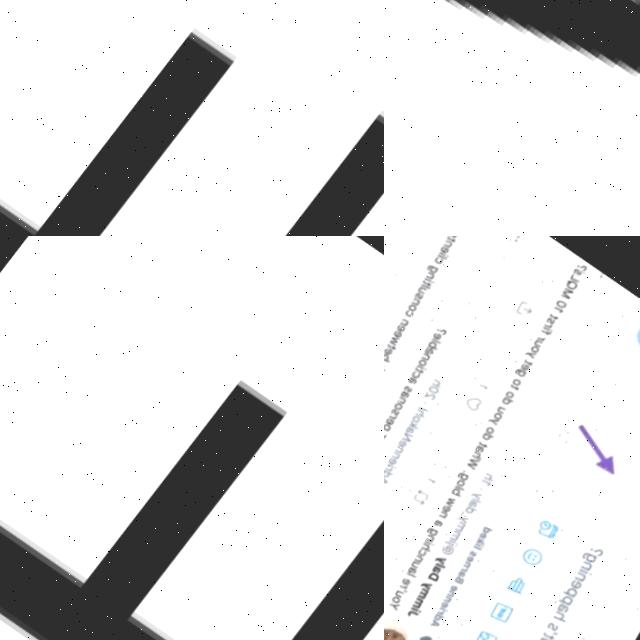0: (553, 305, 571, 322), (429, 389, 444, 404)
1: (553, 313, 566, 326), (479, 388, 492, 401), (483, 485, 497, 497), (429, 483, 440, 494)
2: (425, 396, 440, 410)
6: (384, 572, 391, 587)
F: (0, 309, 384, 640), (0, 0, 384, 236)
J: (384, 0, 640, 236)
